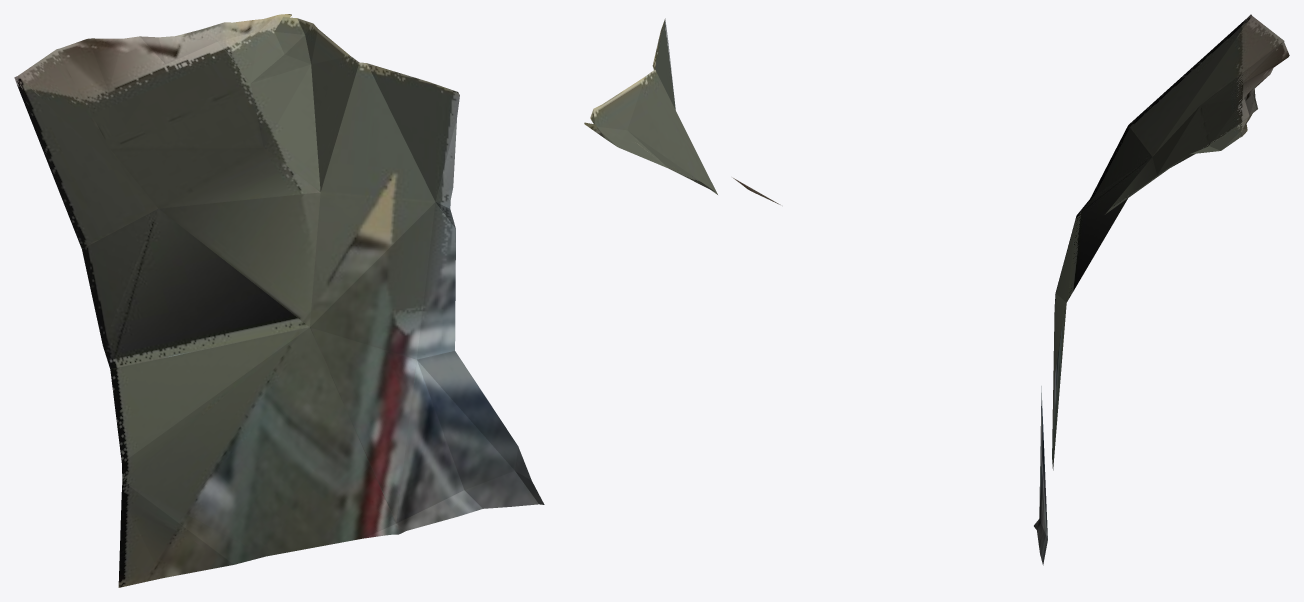
3 views of the same model, side by side, from view 1: azimuth 30°, elevation 25°; view 2: azimuth 150°, elevation 25°; view 3: azimuth 270°, elevation 25° (orthographic). The views are drawn at different scales.
Bounding box in the file's own units: 1.63 × 1.67 × 1.03.
Materials: 3 (3 with a texture image).
